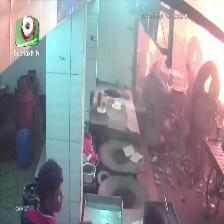fire: (197, 1, 224, 100)
